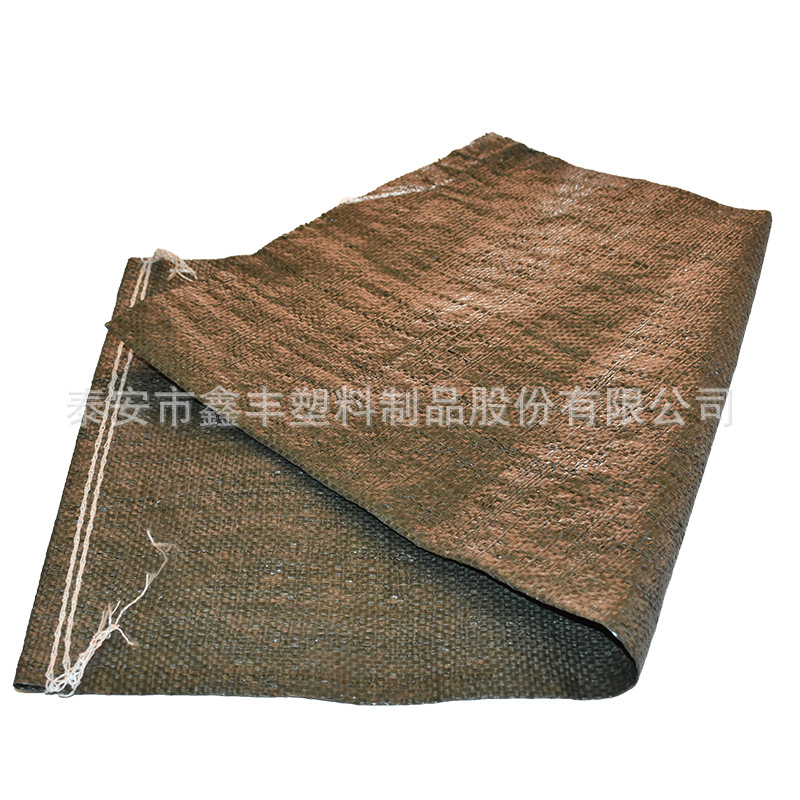Parcel: (17, 134, 771, 704)
